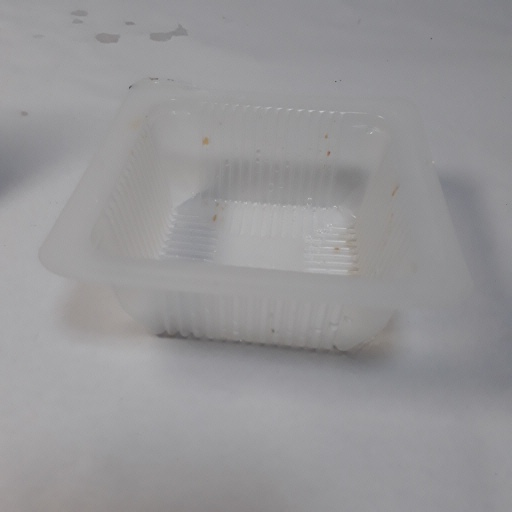Plastic_4: (41, 79, 471, 357)
